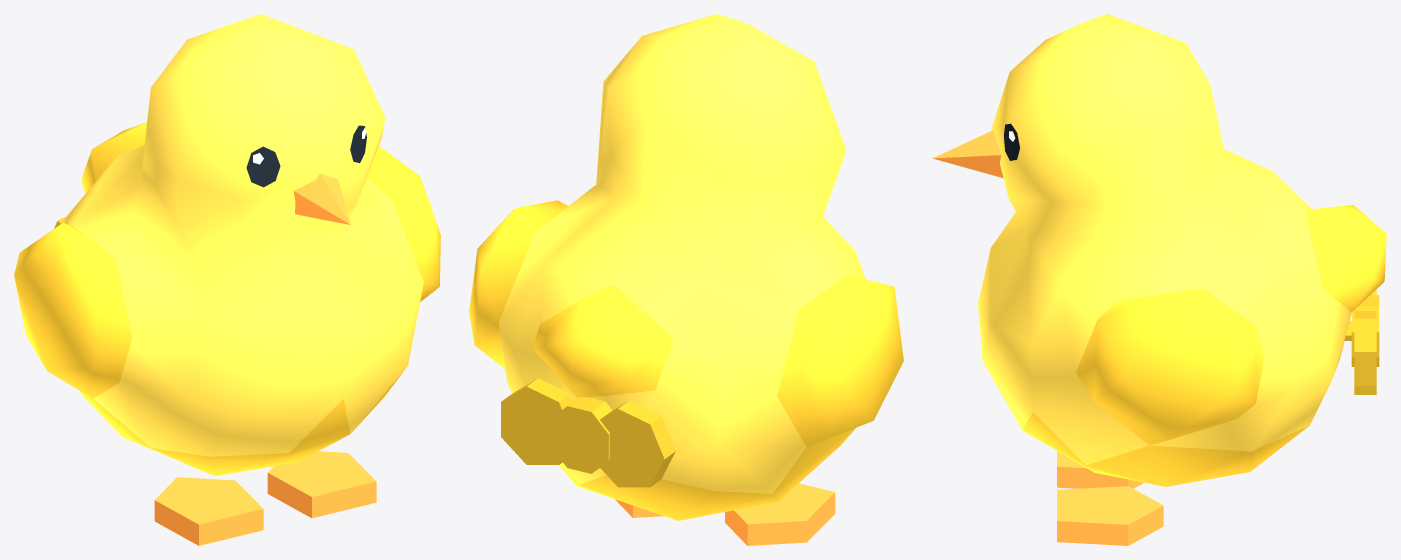
Rendered from windup-chick.glb.
3 views of the same model, side by side, from view 1: azimuth 30°, elevation 25°; view 2: azimuth 150°, elevation 25°; view 3: azimuth 270°, elevation 25° (orthographic). The views are drawn at different scales.
Parts seen in each view (by area): view 1: windup-chick; view 2: windup-chick; view 3: windup-chick.
Boxes of the visible parts, x1,y1,x2,y2 form: windup-chick: (14, 14, 440, 545); windup-chick: (469, 14, 903, 545); windup-chick: (932, 14, 1386, 545).
Size of the model in its own units: 0.93 by 1.14 by 1.
